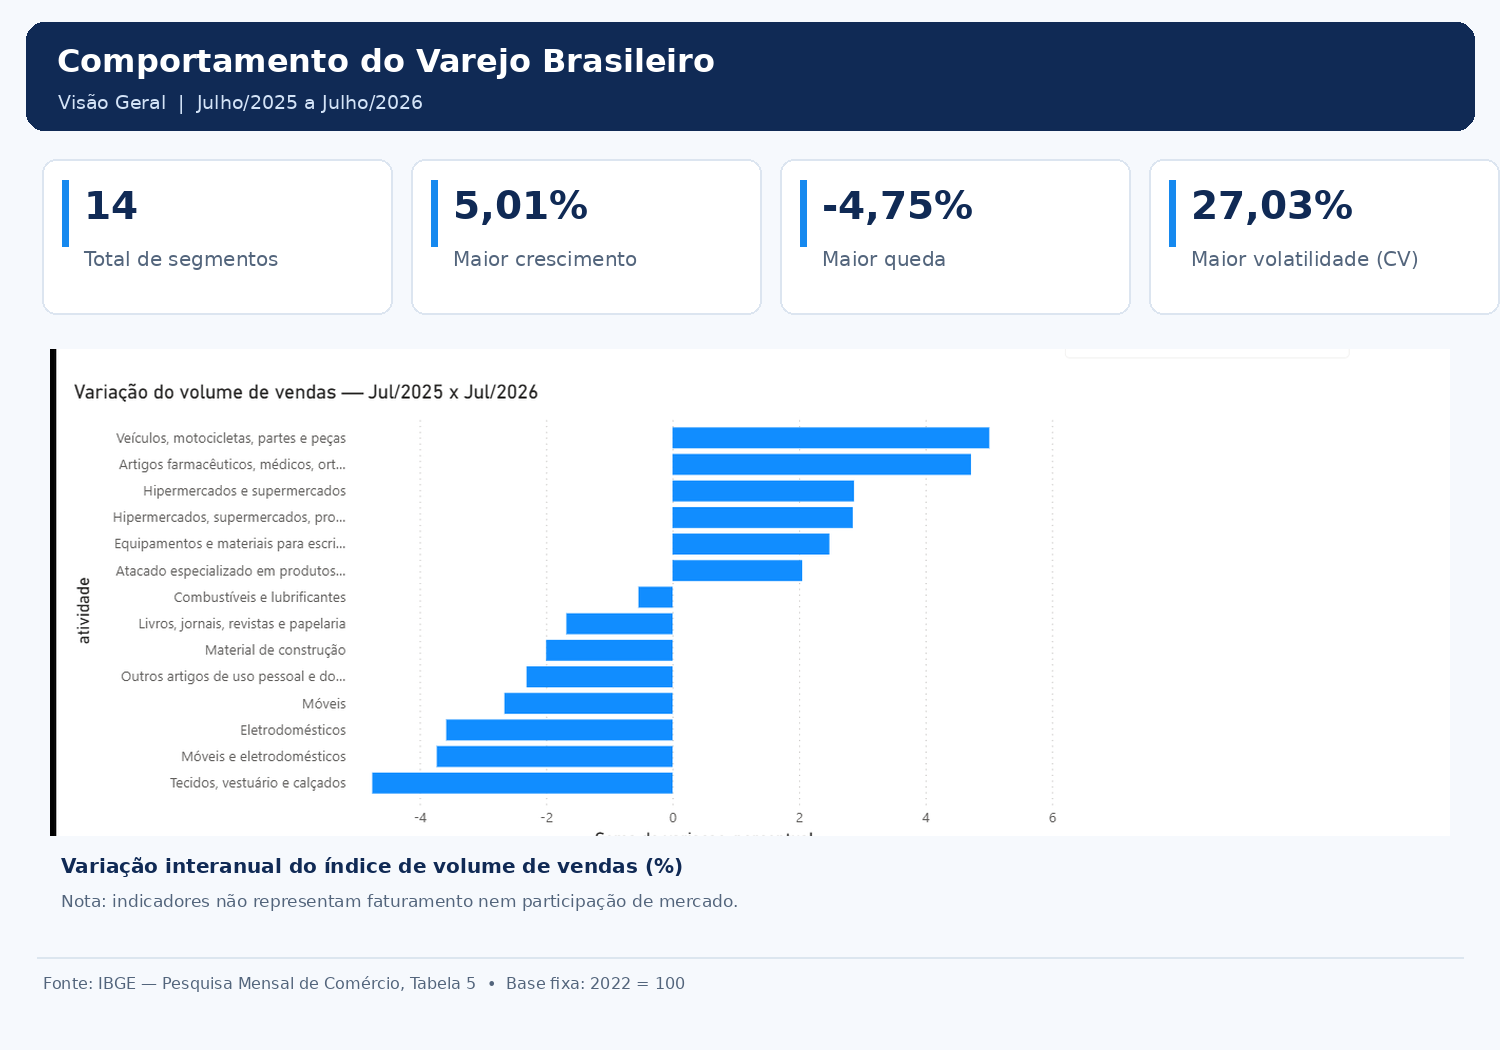

Layout of this report page (visuals, bound fields, positions):
{"tool":"powerbi","page":{"name":"Visão Geral","canvas":[1280,720],"ordinal":0},"visuals":[{"type":"cardVisual","fields":{"Data":["Dim_Atividade.Total Segmentos"]},"box":[10,0,280,280],"z":0},{"type":"cardVisual","fields":{"Data":["Dim_Atividade.Maior Crescimento"]},"box":[319.7,0,280,280],"z":1000},{"type":"cardVisual","fields":{"Data":["Dim_Atividade.Maior Queda"]},"box":[639.3,0,280,280],"z":2000},{"type":"cardVisual","fields":{"Data":["Dim_Atividade.Maior Volatilidade"]},"box":[849.8,9.9,279.9,279.9],"z":3000},{"type":"clusteredBarChart","title":"Variação do volume de vendas — Jul/2025 x Jul/2026","fields":{"Category":["Dim_Atividade.atividade"],"Y":["Sum(portfolio_varejo vw_variacao_anual.variacao_percentual)"]},"box":[9.9,289.9,854.7,407.5],"z":4000}]}

Visuals, with their boxes on the page's 1280x720 design canvas (x1, y1, x2, y2). These are canvas units, not pixel positions in the 1500x1050 screenshot, which may show the page scaled, cropped or inside an application window:
cardVisual - Dim_Atividade.Total Segmentos: [x1=10, y1=0, x2=290, y2=280]
cardVisual - Dim_Atividade.Maior Crescimento: [x1=320, y1=0, x2=600, y2=280]
cardVisual - Dim_Atividade.Maior Queda: [x1=639, y1=0, x2=919, y2=280]
cardVisual - Dim_Atividade.Maior Volatilidade: [x1=850, y1=10, x2=1130, y2=290]
"Variação do volume de vendas — Jul/2025 x Jul/2026" clusteredBarChart: [x1=10, y1=290, x2=865, y2=697]
